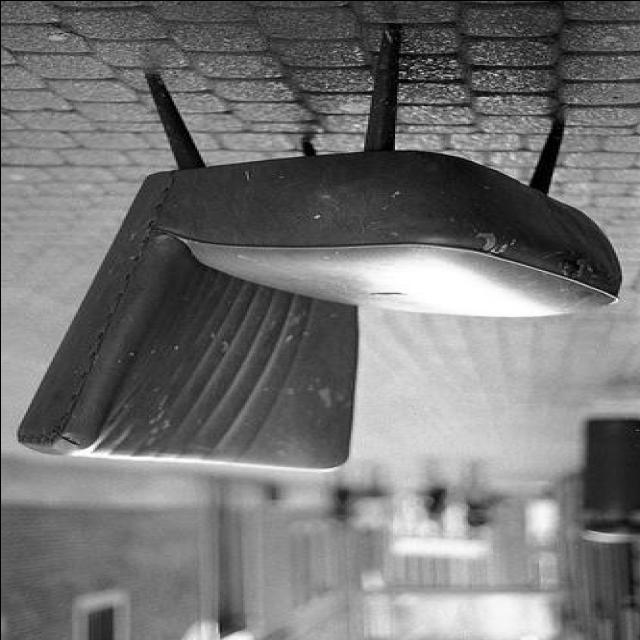chair: (19, 33, 626, 474)
